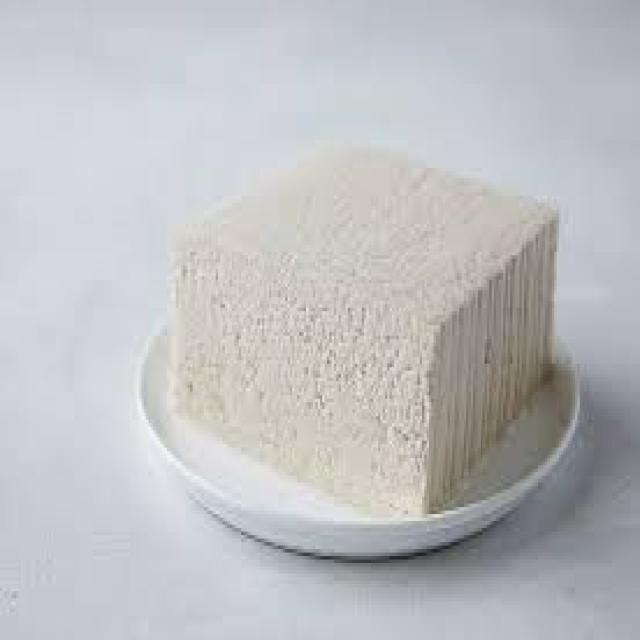tofu: (198, 123, 566, 530)
